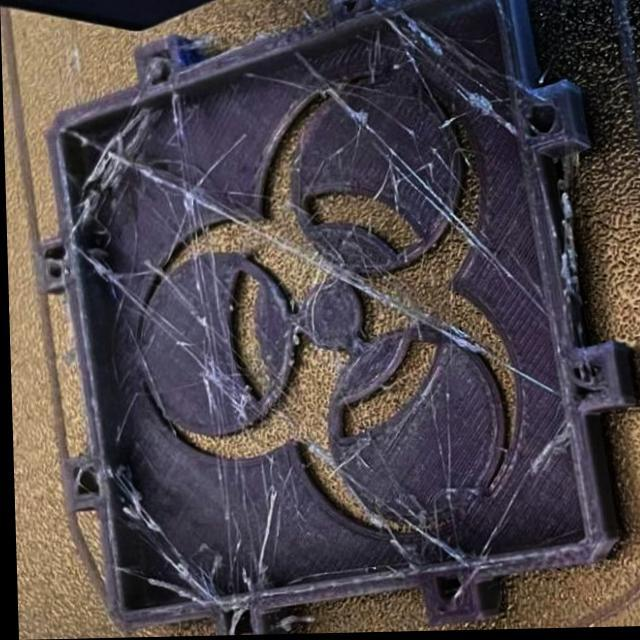stringing: (66, 121, 558, 412), (276, 49, 549, 332), (162, 87, 255, 401), (367, 3, 516, 149), (74, 231, 202, 349), (64, 97, 151, 237), (386, 508, 462, 562), (136, 542, 211, 594), (109, 464, 152, 538)
